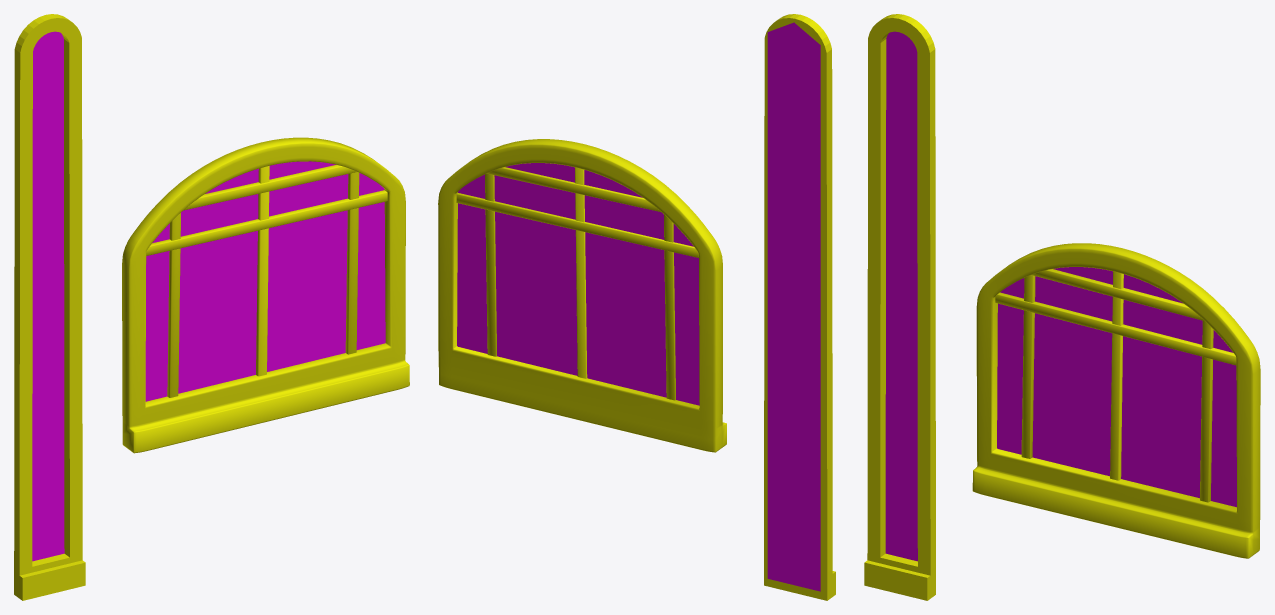
File: Vidros_Necroterio.fbx
The picture shows the model from 3 angles, left to right: view 1: azimuth 30°, elevation 25°; view 2: azimuth 150°, elevation 25°; view 3: azimuth 330°, elevation 25°; orthographic projection.
Visible parts, largest first — view 1: Janelinhas, Vidro_Grande, JanelasCompridas, Vidro_Comprido; view 2: Vidro_Grande, Janelinhas, Vidro_Comprido, JanelasCompridas; view 3: Janelinhas, Vidro_Grande, JanelasCompridas, Vidro_Comprido.
Part boxes in pixels (box(x1,y1,x2,y2)): Janelinhas: box(122, 137, 409, 453); Vidro_Grande: box(145, 161, 385, 401); JanelasCompridas: box(14, 14, 85, 600); Vidro_Comprido: box(32, 31, 64, 561); Vidro_Grande: box(457, 163, 699, 405); Janelinhas: box(438, 139, 726, 452); Vidro_Comprido: box(767, 22, 820, 591); JanelasCompridas: box(764, 14, 835, 600); Janelinhas: box(972, 243, 1260, 558); Vidro_Grande: box(997, 267, 1236, 507); JanelasCompridas: box(864, 14, 935, 600); Vidro_Comprido: box(885, 31, 917, 561).
Bounding box in the file's own units: 186 × 263 × 10.71.
